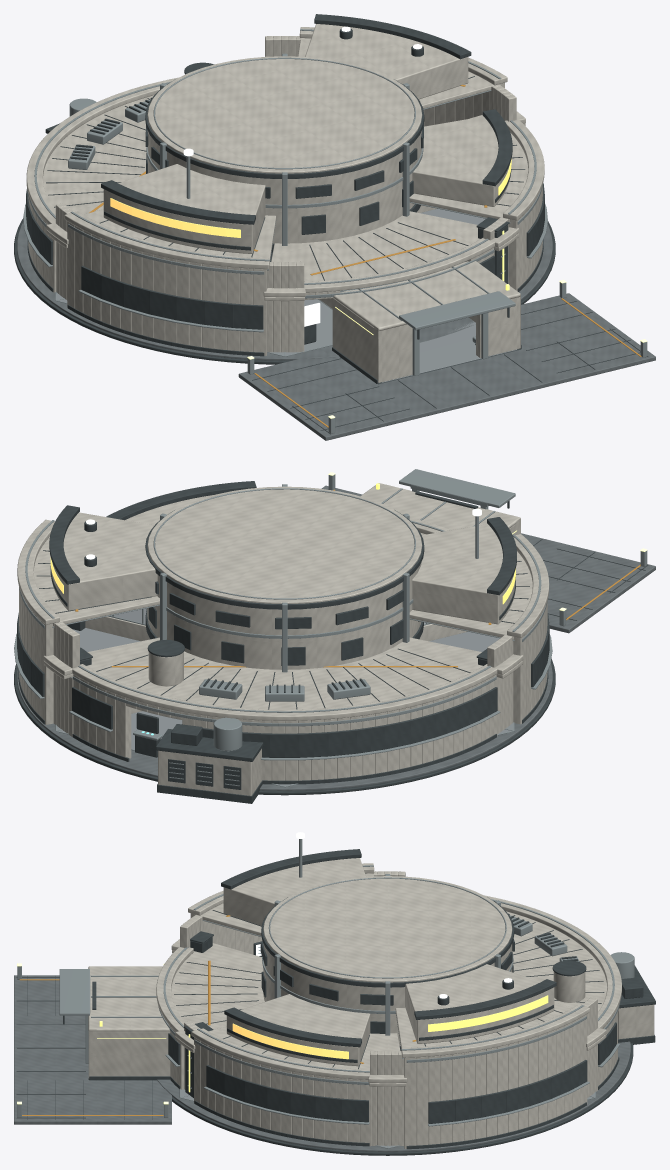
Rendered from hq-shell.69514f1567b1.glb.
3 renders of one model, top to bottom at view 1: azimuth 30°, elevation 25°; view 2: azimuth 150°, elevation 25°; view 3: azimuth 270°, elevation 25°, orthographic. The views are drawn at different scales.
Parts seen in each view (by area): view 1: MF_Roof__structure_ivory_ceramic, MF_Court__court_weathered_basalt, MF_BaseFixed__structure_ivory_ceramic, MF_ShellCutaway_FrontFlats__structure_ivory_ceramic, MF_Roof__structure_graphite_joints, MF_BaseFixed__structure_graphite_joints, MF_Roof__brushed_titanium, MF_BaseFixed__court_weathered_basalt, MF_BaseFixed__brushed_titanium, MF_ShellCutaway_FrontFlats__brushed_titanium, MF_Interior_dispatch__room_inlay_dispatch, MF_Court__structure_graphite_joints (+3 smaller); view 2: MF_Roof__structure_ivory_ceramic, MF_BaseFixed__structure_ivory_ceramic, MF_BaseFixed__structure_graphite_joints, MF_Roof__structure_graphite_joints, MF_Roof__brushed_titanium, MF_Court__court_weathered_basalt, MF_BaseFixed__brushed_titanium, MF_ShellCutaway_FrontFlats__structure_ivory_ceramic, MF_BaseFixed__court_weathered_basalt, MF_Interior_review__room_inlay_review, MF_Interior_planning__room_inlay_planning, MF_Interior_implementation__structure_graphite_joints (+3 smaller); view 3: MF_Roof__structure_ivory_ceramic, MF_BaseFixed__structure_ivory_ceramic, MF_ShellCutaway_FrontFlats__structure_ivory_ceramic, MF_Court__court_weathered_basalt, MF_Roof__structure_graphite_joints, MF_BaseFixed__structure_graphite_joints, MF_Roof__brushed_titanium, MF_ShellCutaway_FrontFlats__structure_graphite_joints, MF_BaseFixed__court_weathered_basalt, MF_BaseFixed__brushed_titanium, MF_ShellCutaway_FrontFlats__brushed_titanium, MF_Roof__practical_warm_window_glass (+1 smaller).
Boxes of the visible parts, box(x1,y1,x2,y2) form: MF_Roof__structure_ivory_ceramic: box(43, 24, 528, 330); MF_Court__court_weathered_basalt: box(238, 293, 655, 440); MF_BaseFixed__structure_ivory_ceramic: box(26, 27, 507, 355); MF_ShellCutaway_FrontFlats__structure_ivory_ceramic: box(55, 36, 544, 382); MF_Roof__structure_graphite_joints: box(46, 14, 525, 339); MF_BaseFixed__structure_graphite_joints: box(14, 123, 555, 384); MF_Roof__brushed_titanium: box(68, 53, 515, 330); MF_BaseFixed__court_weathered_basalt: box(17, 221, 552, 360); MF_BaseFixed__brushed_titanium: box(23, 29, 505, 332); MF_ShellCutaway_FrontFlats__brushed_titanium: box(304, 120, 547, 375); MF_Interior_dispatch__room_inlay_dispatch: box(382, 321, 516, 382); MF_Court__structure_graphite_joints: box(252, 301, 648, 434); MF_Roof__structure_ivory_ceramic: box(33, 483, 532, 709); MF_BaseFixed__structure_ivory_ceramic: box(17, 519, 549, 795); MF_BaseFixed__structure_graphite_joints: box(14, 613, 555, 803); MF_Roof__structure_graphite_joints: box(37, 481, 529, 745); MF_Roof__brushed_titanium: box(52, 469, 515, 751); MF_Court__court_weathered_basalt: box(321, 485, 655, 633); MF_BaseFixed__brushed_titanium: box(14, 520, 552, 786); MF_ShellCutaway_FrontFlats__structure_ivory_ceramic: box(53, 517, 520, 736); MF_BaseFixed__court_weathered_basalt: box(17, 663, 552, 790); MF_Interior_review__room_inlay_review: box(56, 628, 139, 730); MF_Interior_planning__room_inlay_planning: box(429, 631, 513, 730); MF_Interior_implementation__structure_graphite_joints: box(135, 712, 160, 757); MF_Roof__structure_ivory_ceramic: box(88, 858, 606, 1086); MF_BaseFixed__structure_ivory_ceramic: box(188, 863, 654, 1148); MF_ShellCutaway_FrontFlats__structure_ivory_ceramic: box(88, 871, 597, 1146); MF_Court__court_weathered_basalt: box(14, 975, 171, 1124); MF_Roof__structure_graphite_joints: box(63, 849, 643, 1069); MF_BaseFixed__structure_graphite_joints: box(88, 931, 655, 1155); MF_Roof__brushed_titanium: box(59, 839, 634, 1058); MF_ShellCutaway_FrontFlats__structure_graphite_joints: box(89, 981, 369, 1146); MF_BaseFixed__court_weathered_basalt: box(157, 1041, 630, 1151); MF_BaseFixed__brushed_titanium: box(187, 865, 620, 1126); MF_ShellCutaway_FrontFlats__brushed_titanium: box(85, 947, 369, 1124); MF_Roof__practical_warm_window_glass: box(232, 995, 548, 1059).
Size of the model in its own units: 35.5 by 12.31 by 46.37.
20 materials, 3 textured.
